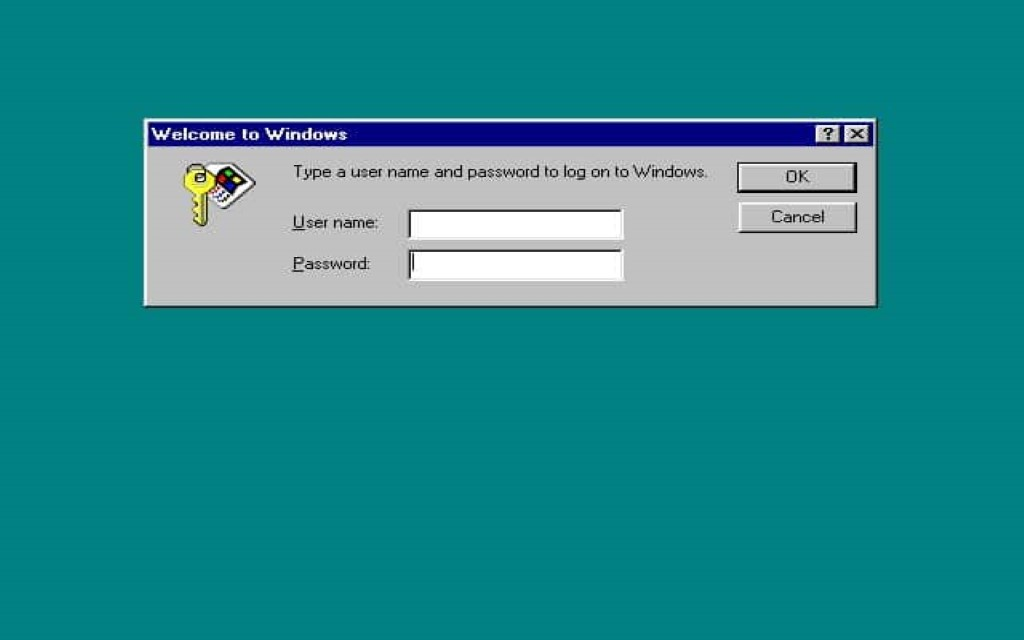button: (738, 201, 856, 233), (738, 165, 857, 193), (816, 124, 840, 144), (847, 125, 870, 142)
label_Username: (290, 212, 379, 238)
label_password: (287, 253, 376, 276)
textbox: (409, 250, 622, 280), (410, 209, 621, 239)
